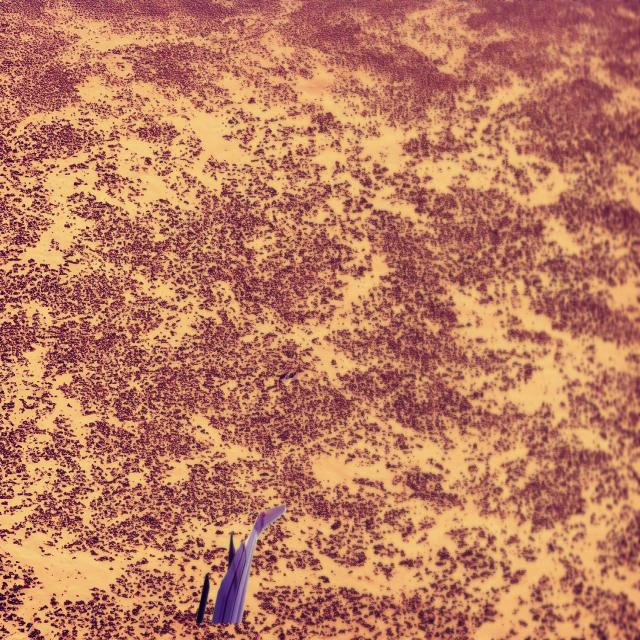airplane: (196, 503, 286, 626)
